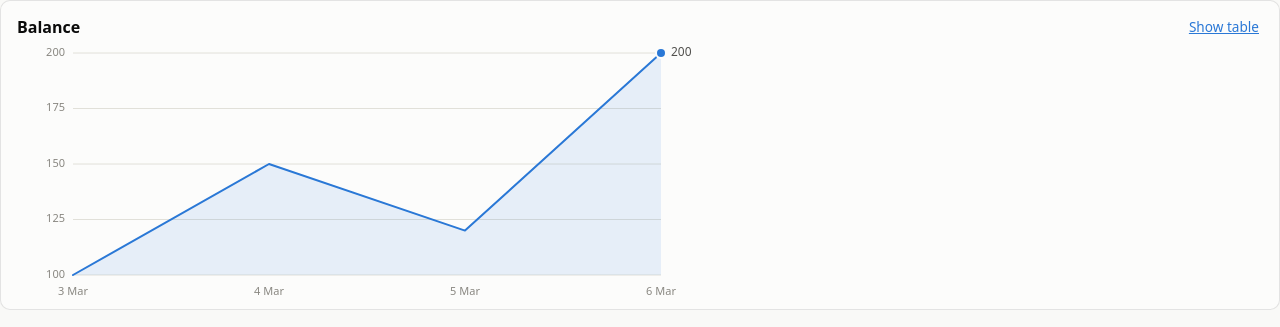
Test: TimeSeriesChart › offers the same numbers as a table
Later steps or results of the test are not shown.
Click the button "Show table".
click(1224, 27)  # box 1185,13 -> 1263,41
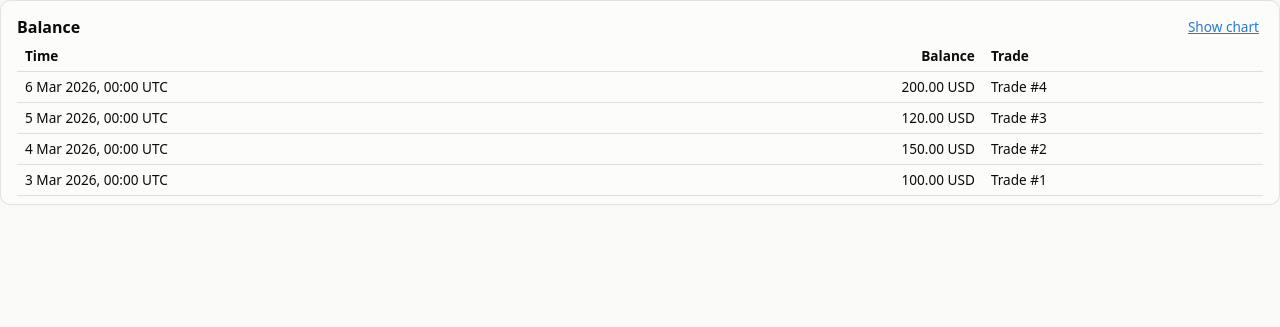
Expected: the number of rows is 5, 17,41 -> 1263,72; 17,72 -> 1263,103; 17,103 -> 1263,134; 17,134 -> 1263,165; 17,165 -> 1263,196
Expected: the text "200.00 USD" is shown, 635,72 -> 983,103
Expected: the text "Trade #4" is shown, 983,72 -> 1263,103
